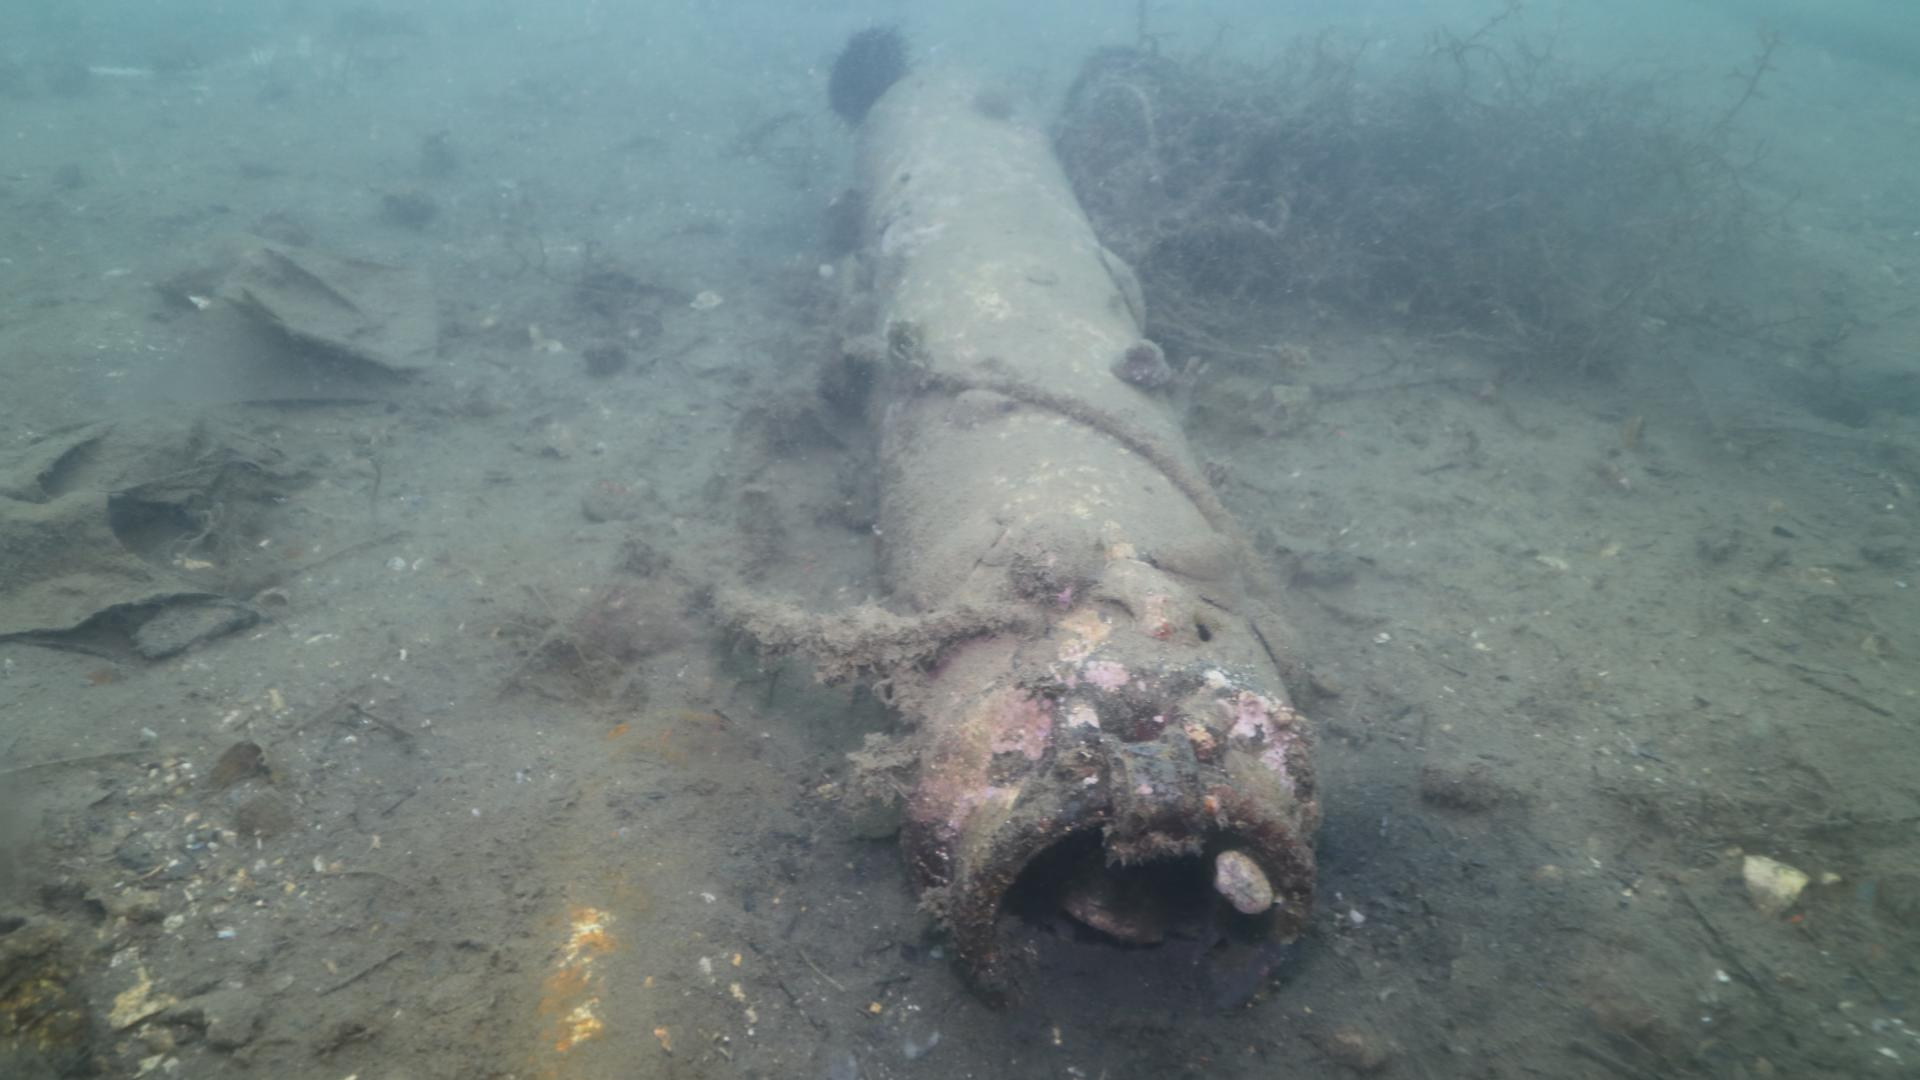eel fish trap: (855, 57, 1332, 1011)
rope: (914, 365, 1265, 595)
